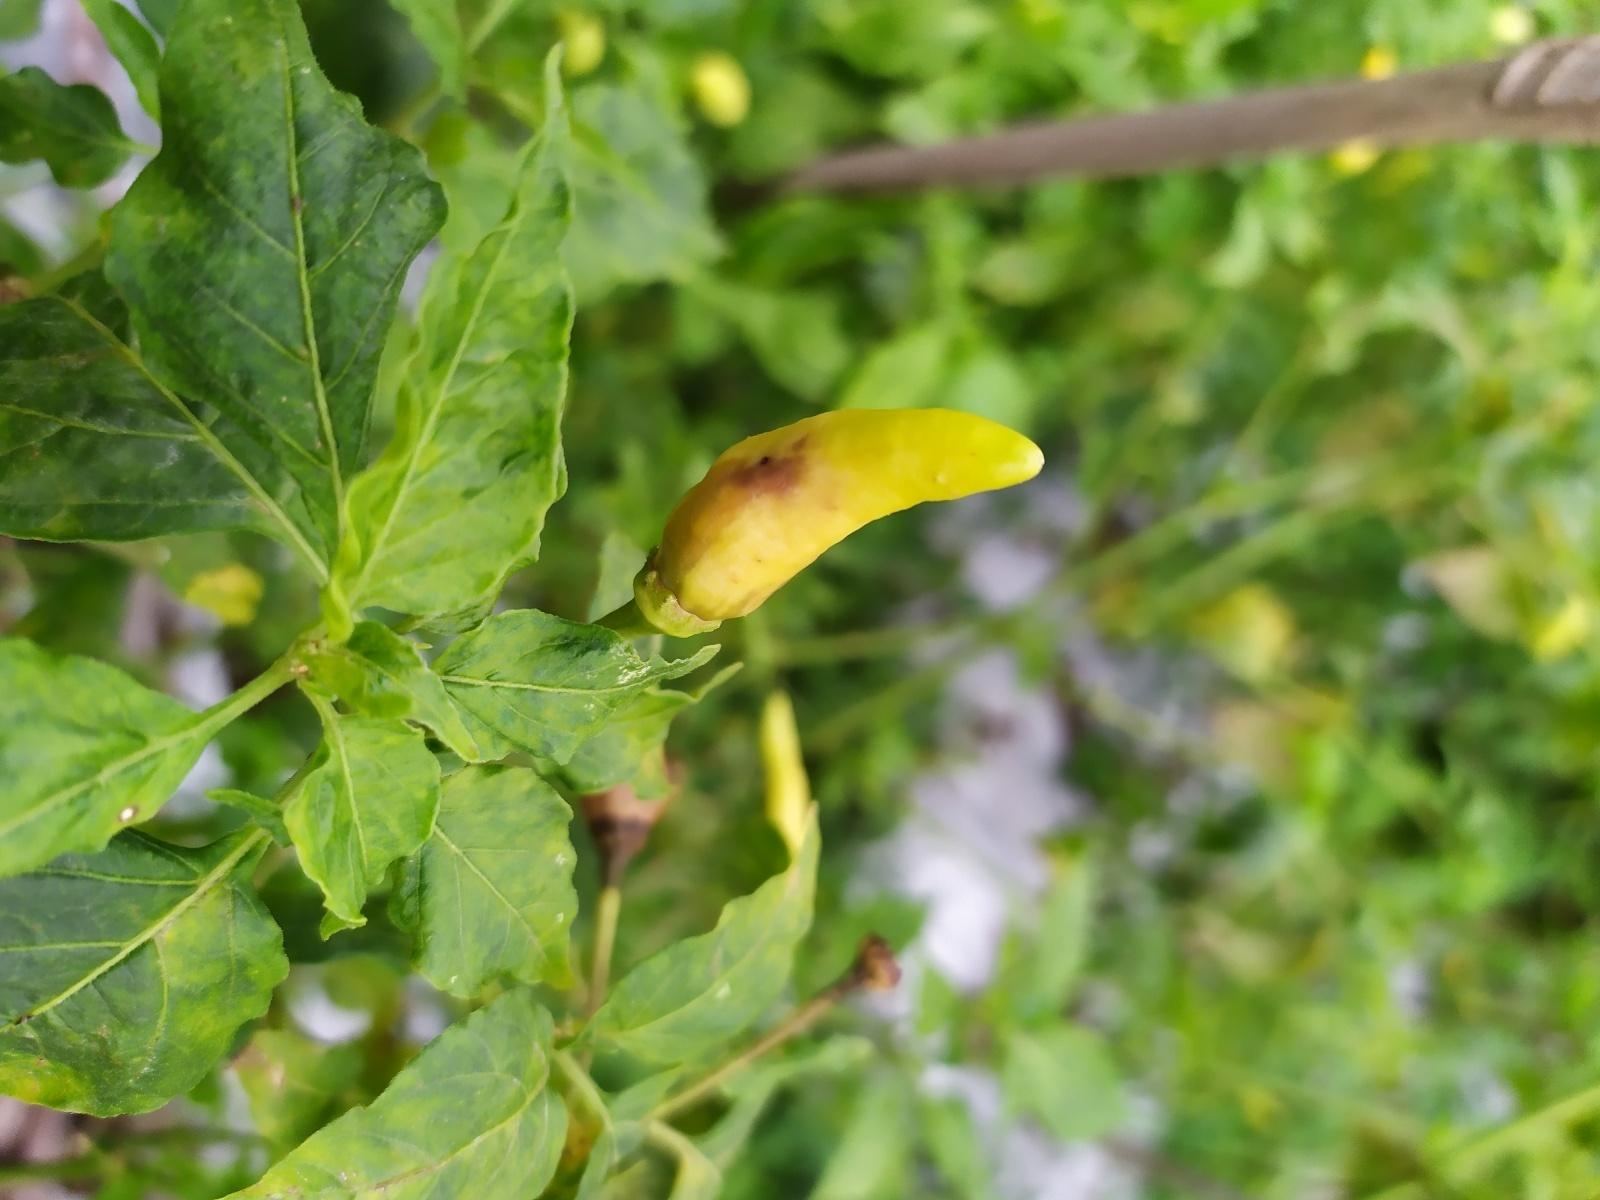lalat_buah: (651, 407, 1047, 624)
